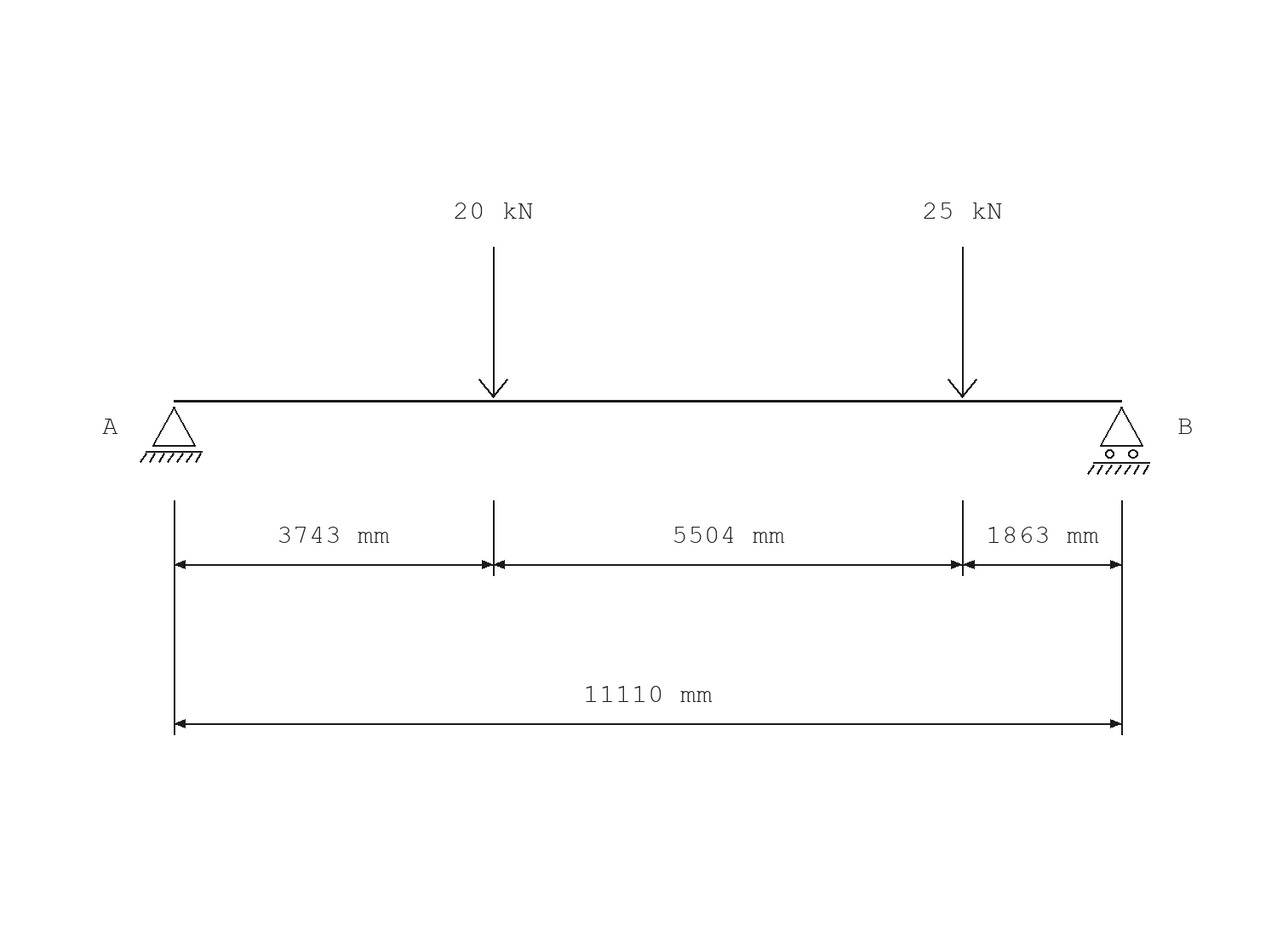pin_support: (140, 407, 203, 463)
point_load: (478, 247, 508, 398), (948, 247, 977, 398)
roller_support: (1087, 407, 1150, 475)
